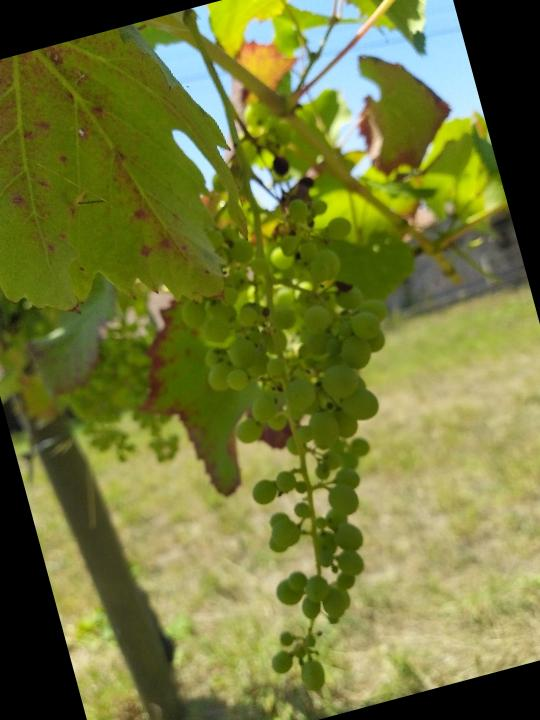grape: (156, 180, 477, 702)
